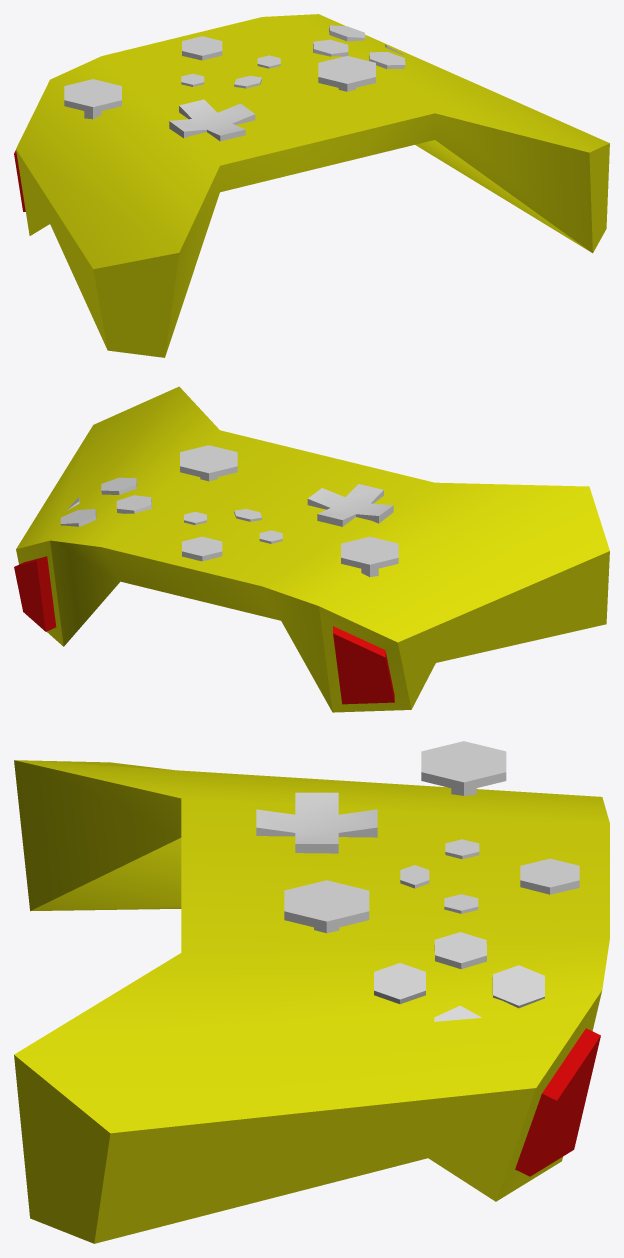
File: Surfacing_Controller.fbx
3 renders of one model, top to bottom at view 1: azimuth 30°, elevation 25°; view 2: azimuth 150°, elevation 25°; view 3: azimuth 270°, elevation 25°, orthographic. The views are drawn at different scales.
Visible parts, largest first — view 1: Controller, Dpad, Joystick, Joystick1, Buttons, X, A; view 2: Controller, Dpad, Joystick, Joystick1, Buttons, X, A, Y; view 3: Controller, Dpad, Joystick, Joystick1, Buttons, Y, A, X.
Part boxes in pixels (x1,y1,x2,y2): Controller: [14, 14, 609, 357]; Dpad: [169, 99, 255, 141]; Joystick: [64, 79, 121, 119]; Joystick1: [318, 56, 375, 91]; Buttons: [182, 36, 222, 60]; X: [313, 39, 348, 56]; A: [369, 52, 405, 69]; Controller: [14, 386, 609, 712]; Dpad: [307, 484, 393, 526]; Joystick: [341, 536, 398, 576]; Joystick1: [180, 445, 237, 481]; Buttons: [182, 536, 222, 561]; X: [116, 495, 152, 513]; A: [101, 477, 136, 494]; Y: [60, 509, 96, 526]; Controller: [14, 760, 609, 1243]; Dpad: [256, 792, 377, 853]; Joystick: [421, 741, 506, 795]; Joystick1: [284, 880, 369, 933]; Buttons: [520, 858, 579, 894]; Y: [492, 965, 544, 1008]; A: [374, 963, 425, 1004]; X: [434, 932, 486, 969].
Bounding box in the file's own units: 4.48 × 1.2 × 3.04.
